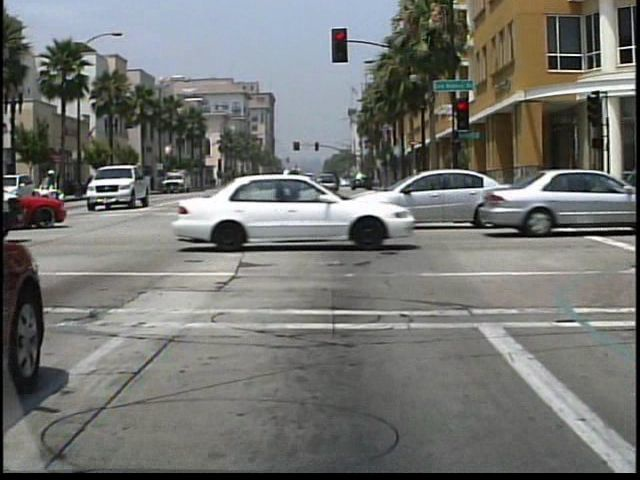person: (40, 167, 66, 214)
